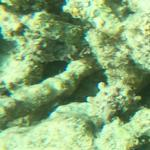dead: (25, 1, 133, 138)
